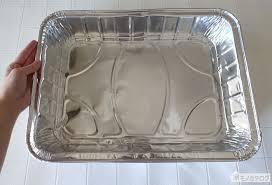metal: (25, 8, 263, 163)
